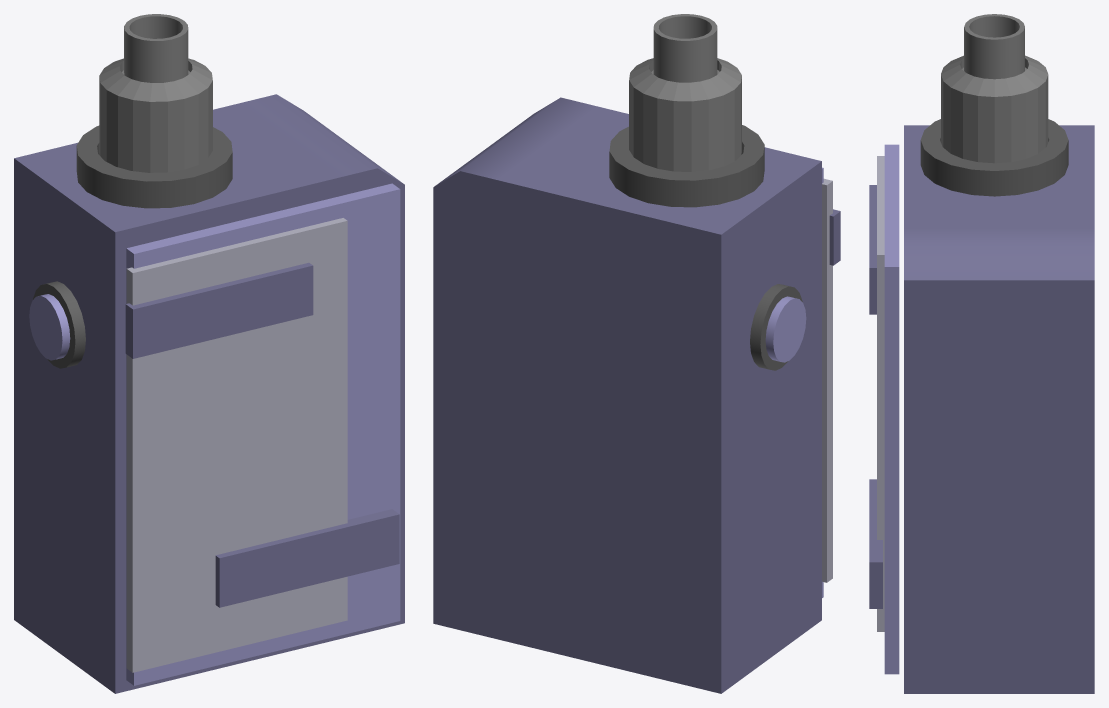
The model's file is colored sqonk vape.fbx.
3 views of the same model, side by side, from view 1: azimuth 30°, elevation 25°; view 2: azimuth 150°, elevation 25°; view 3: azimuth 270°, elevation 25° (orthographic). The views are drawn at different scales.
Parts seen in each view (by area): view 1: polySurface29, polySurface5, RDA_squonk_vape, drip_tip_squonk_vape; view 2: polySurface5, RDA_squonk_vape, polySurface29, drip_tip_squonk_vape; view 3: polySurface5, polySurface29, RDA_squonk_vape, drip_tip_squonk_vape.
Boxes of the visible parts, <box> form: polySurface29: <box>125,183,400,685</box>; polySurface5: <box>14,94,404,693</box>; RDA_squonk_vape: <box>99,58,212,172</box>; drip_tip_squonk_vape: <box>124,14,188,82</box>; polySurface5: <box>433,97,821,693</box>; RDA_squonk_vape: <box>629,58,741,171</box>; polySurface29: <box>822,167,840,597</box>; drip_tip_squonk_vape: <box>653,14,717,82</box>; polySurface5: <box>904,119,1094,693</box>; polySurface29: <box>869,144,899,674</box>; RDA_squonk_vape: <box>941,55,1048,163</box>; drip_tip_squonk_vape: <box>964,14,1024,79</box>.
Bounding box in the file's own units: 3.53 × 6.68 × 2.37.
